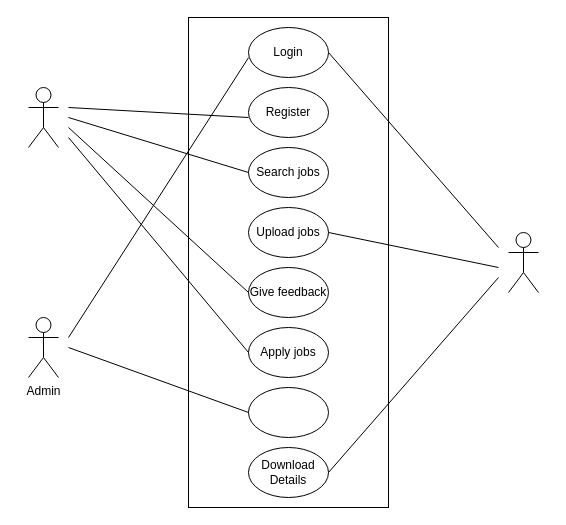
Image size: 566x525. Some labels were removed from this diagram. Each missing label, with the box of its shape:
Approve jobs: (248, 386, 328, 438)
Company: (508, 232, 538, 292)
Employee: (28, 86, 58, 148)
